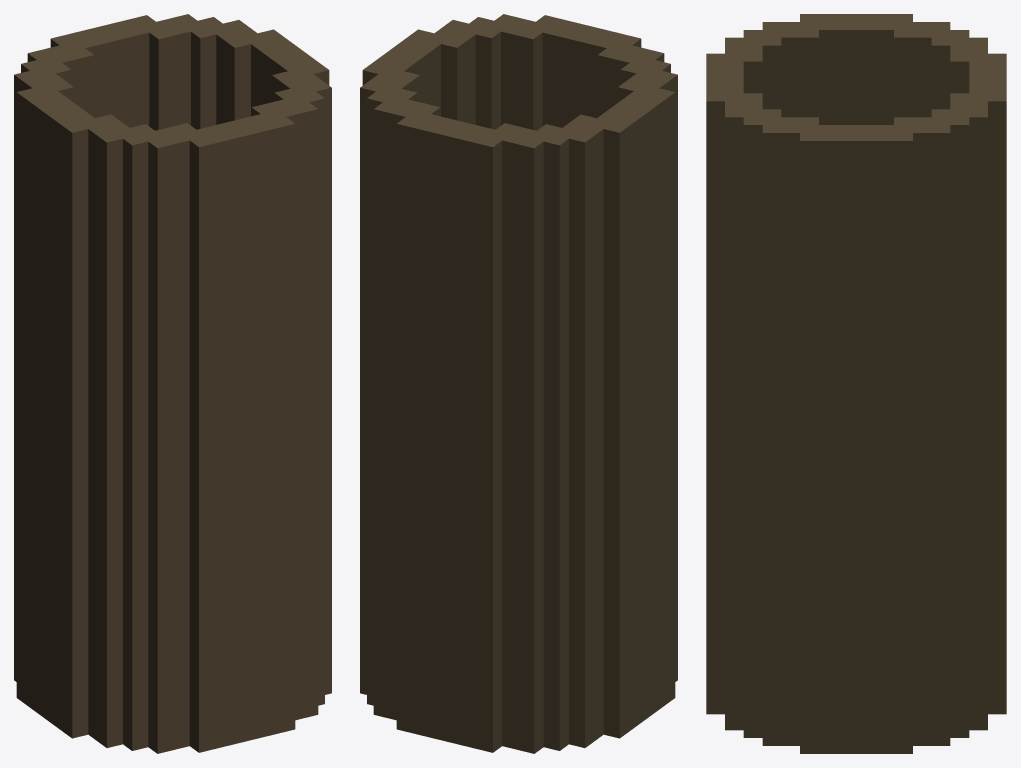
Rendered from cloth_uncommon_leg_L.glb.
The picture shows the model from 3 angles, left to right: view 1: azimuth 30°, elevation 25°; view 2: azimuth 150°, elevation 25°; view 3: azimuth 270°, elevation 25°; orthographic projection.
Visible parts, largest first — view 1: cloth_uncommon_leg_L; view 2: cloth_uncommon_leg_L; view 3: cloth_uncommon_leg_L.
Part boxes in pixels (bbox=[...]): cloth_uncommon_leg_L: bbox=[14, 14, 331, 753]; cloth_uncommon_leg_L: bbox=[360, 14, 677, 753]; cloth_uncommon_leg_L: bbox=[706, 14, 1006, 753].
Bounding box in the file's own units: 0.192 × 0.432 × 0.192.
